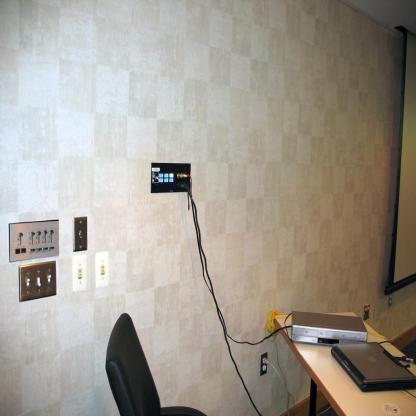board: (331, 341, 416, 392)
